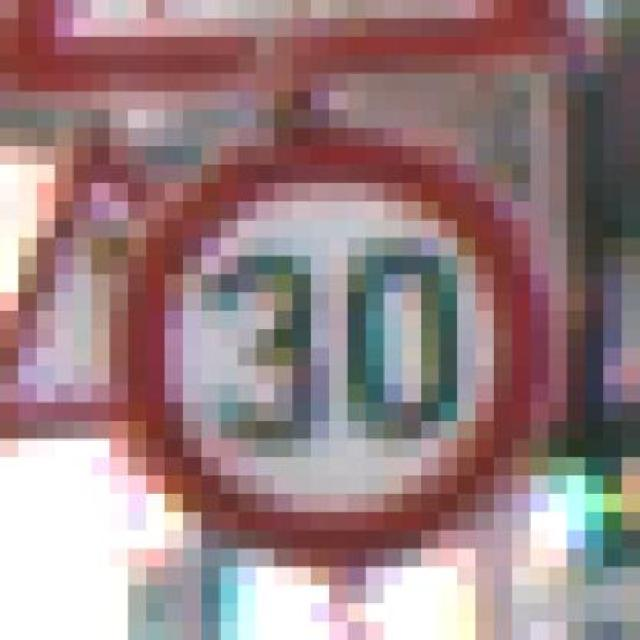Speed Limit 30 KMPh: (55, 110, 622, 585)
